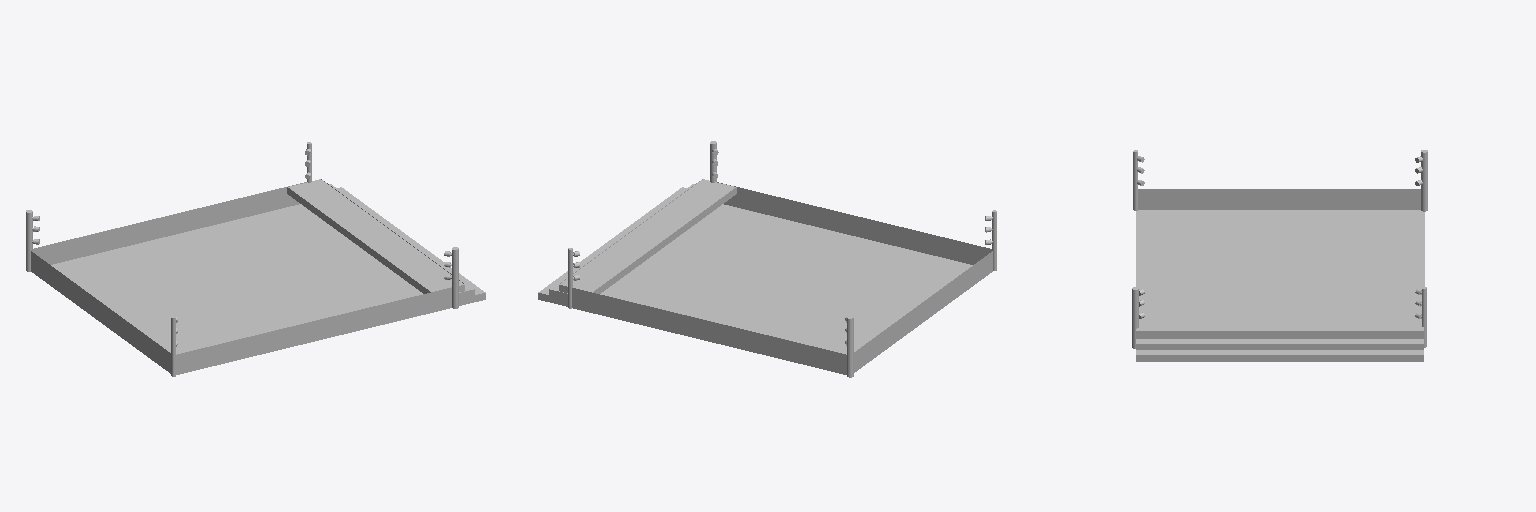
The model's file is Ring.obj.
3 renders of one model, left to right at view 1: azimuth 30°, elevation 25°; view 2: azimuth 150°, elevation 25°; view 3: azimuth 270°, elevation 25°, orthographic.
Visible parts, largest first — view 1: Ring_Material.005, Ring_Material.008, Ring_Material.007; view 2: Ring_Material.005, Ring_Material.008, Ring_Material.007; view 3: Ring_Material.005, Ring_Material.007.
Boxes of the visible parts, <box> form: Ring_Material.005: <box>31,179,485,373</box>; Ring_Material.008: <box>33,182,451,374</box>; Ring_Material.007: <box>26,142,485,376</box>; Ring_Material.005: <box>538,179,992,372</box>; Ring_Material.008: <box>572,182,991,374</box>; Ring_Material.007: <box>568,141,996,377</box>; Ring_Material.005: <box>1136,189,1424,361</box>; Ring_Material.007: <box>1132,150,1427,348</box>.
Bounding box in the file's own units: 101 × 18.02 × 82.09.